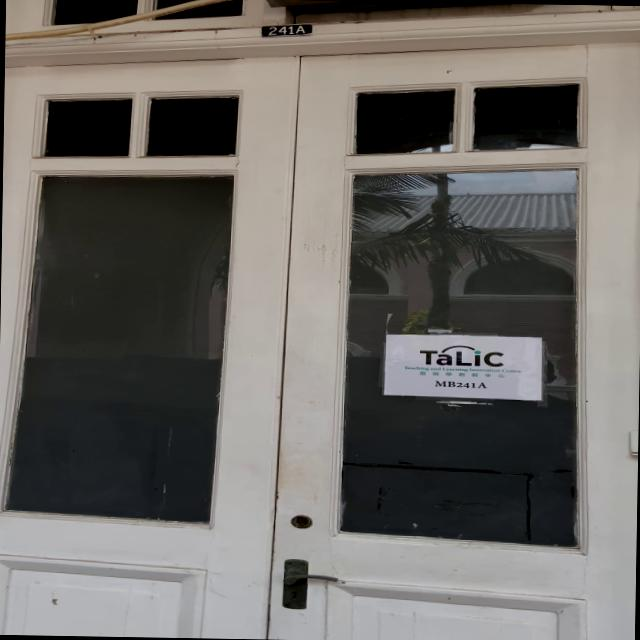room241a: (259, 22, 314, 40)
